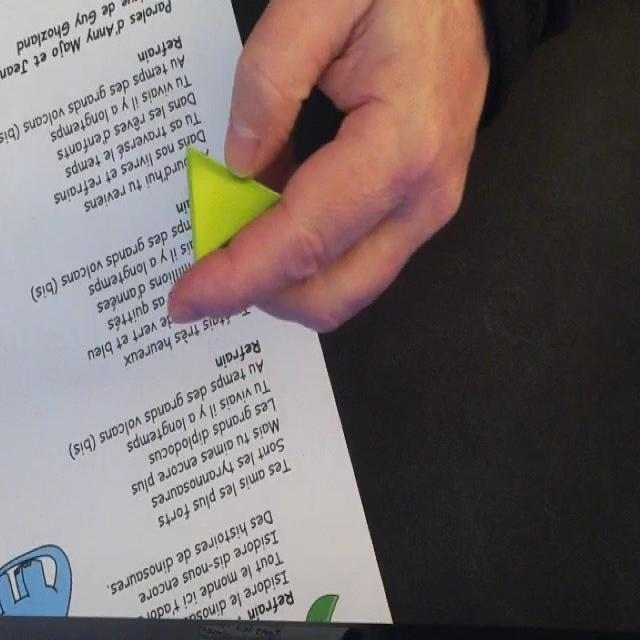triangle: (186, 145, 282, 263)
